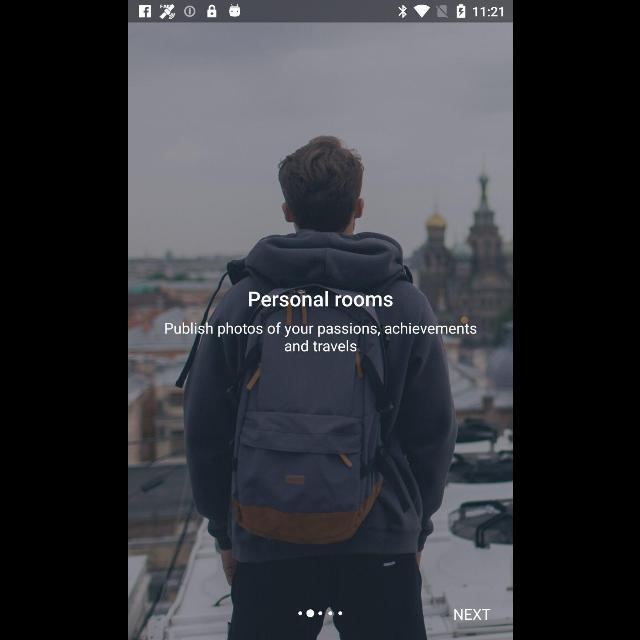backgroundimage: (128, 22, 512, 640)
pageindicator: (298, 609, 342, 617)
text: (164, 322, 476, 352), (248, 291, 392, 307), (454, 608, 491, 620)
uppertaskbar: (128, 1, 512, 23)
